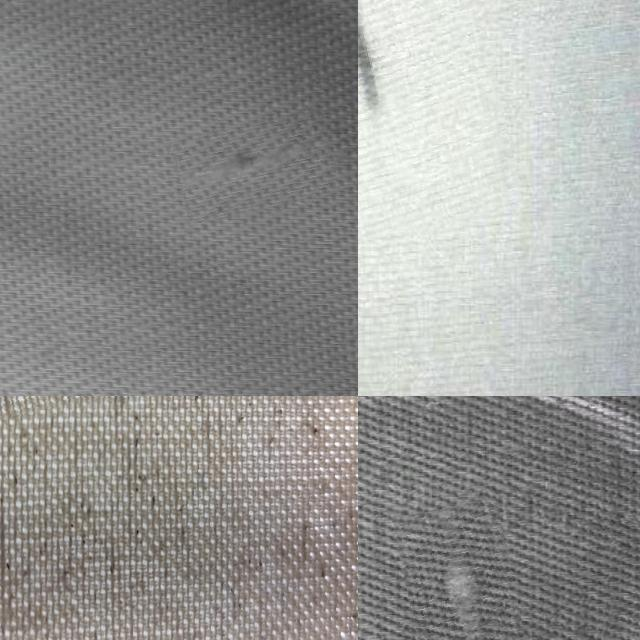stains: (358, 0, 507, 239), (401, 500, 525, 640), (174, 114, 336, 216)
